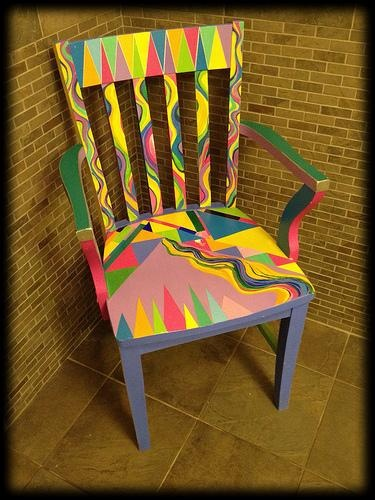obstacle: (55, 21, 326, 448)
